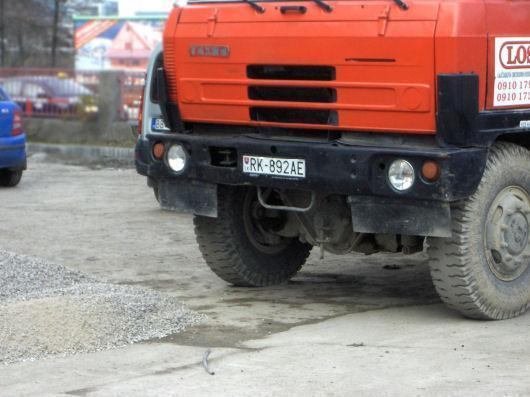placa de veiculo: (236, 150, 315, 183)
